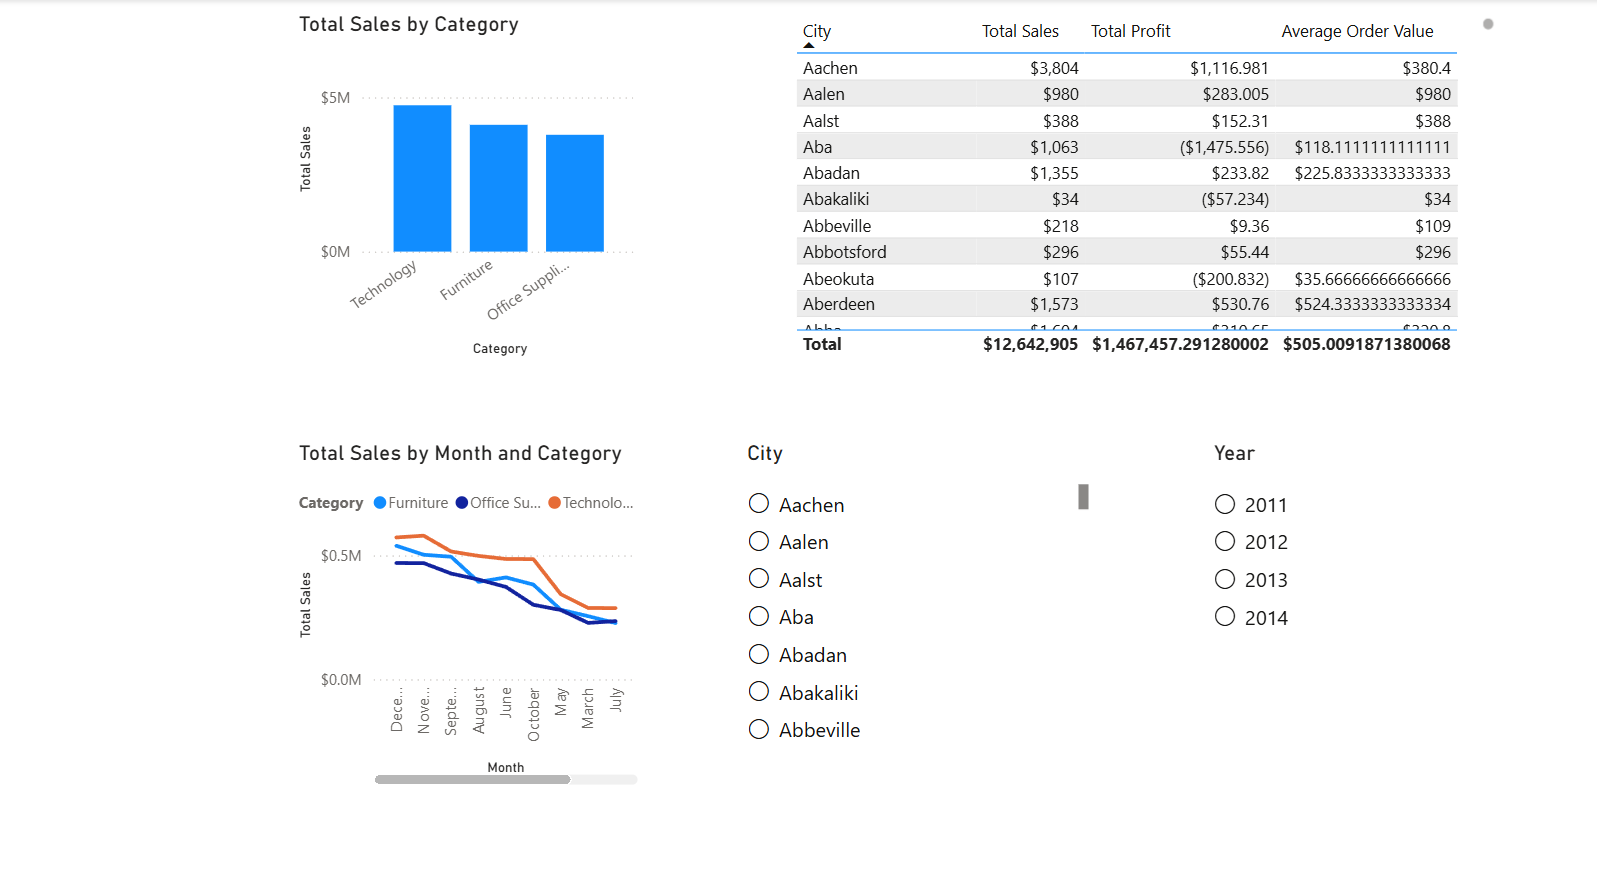

The page's visual inventory and layout, read from the dashboard file:
{"tool":"powerbi","page":{"name":"Sales Analysis","canvas":[1280,720],"ordinal":1},"visuals":[{"type":"clusteredColumnChart","fields":{"Category":["Global Superstore.Category"],"Y":["DAX_Measures.Total Sales"]},"box":[92.2,31.1,502.7,280.1],"z":0},{"type":"lineChart","fields":{"Category":["DateTable.Month"],"Y":["DAX_Measures.Total Sales"],"Series":["Global Superstore.Category"]},"box":[92.2,375.9,502.7,280.1],"z":1000},{"type":"tableEx","fields":{"Values":["Region.City","DAX_Measures.Total Sales","DAX_Measures.Total Profit","DAX_Measures.Average Order Value"]},"box":[706.2,31.1,517.1,280.1],"z":2000},{"type":"listSlicer","fields":{"Values":["Region.City"]},"box":[681.1,375.9,277.7,280.1],"z":3000},{"type":"listSlicer","fields":{"Values":["DateTable.Year"]},"box":[958.8,375.9,264.5,280.1],"z":4000}]}

Visuals, with their boxes in screenshot pixels (x1, y1, x2, y2), scaled from the page's 1280x720 canvas onto the 1597x895 screenshot:
clusteredColumnChart - Global Superstore.Category x DAX_Measures.Total Sales: {"left": 115, "top": 39, "right": 742, "bottom": 387}
lineChart - DateTable.Month x DAX_Measures.Total Sales: {"left": 115, "top": 467, "right": 742, "bottom": 815}
tableEx - Region.City x DAX_Measures.Total Sales: {"left": 881, "top": 39, "right": 1526, "bottom": 387}
listSlicer - Region.City: {"left": 850, "top": 467, "right": 1196, "bottom": 815}
listSlicer - DateTable.Year: {"left": 1196, "top": 467, "right": 1526, "bottom": 815}
